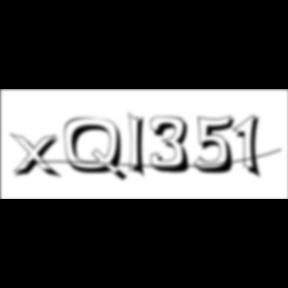1: (232, 114, 266, 182)
3: (151, 116, 197, 176)
5: (194, 114, 240, 176)
I: (128, 110, 152, 182)
Q: (64, 117, 130, 184)
x: (11, 132, 66, 181)
